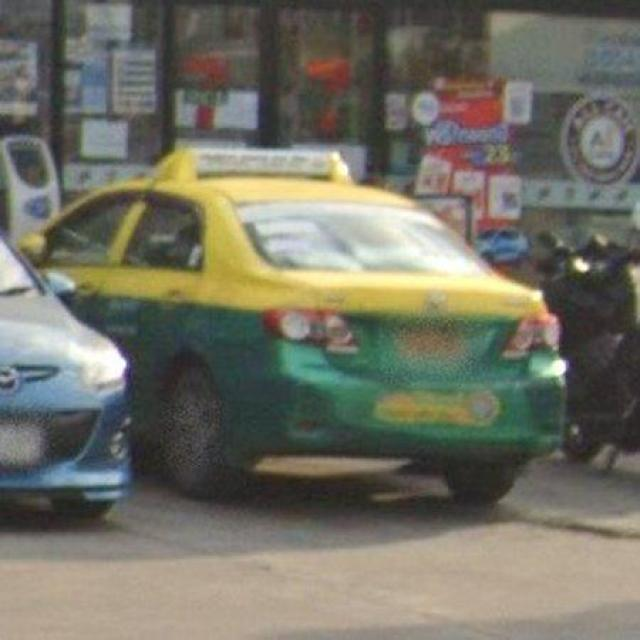Taxi: (23, 149, 566, 503)
